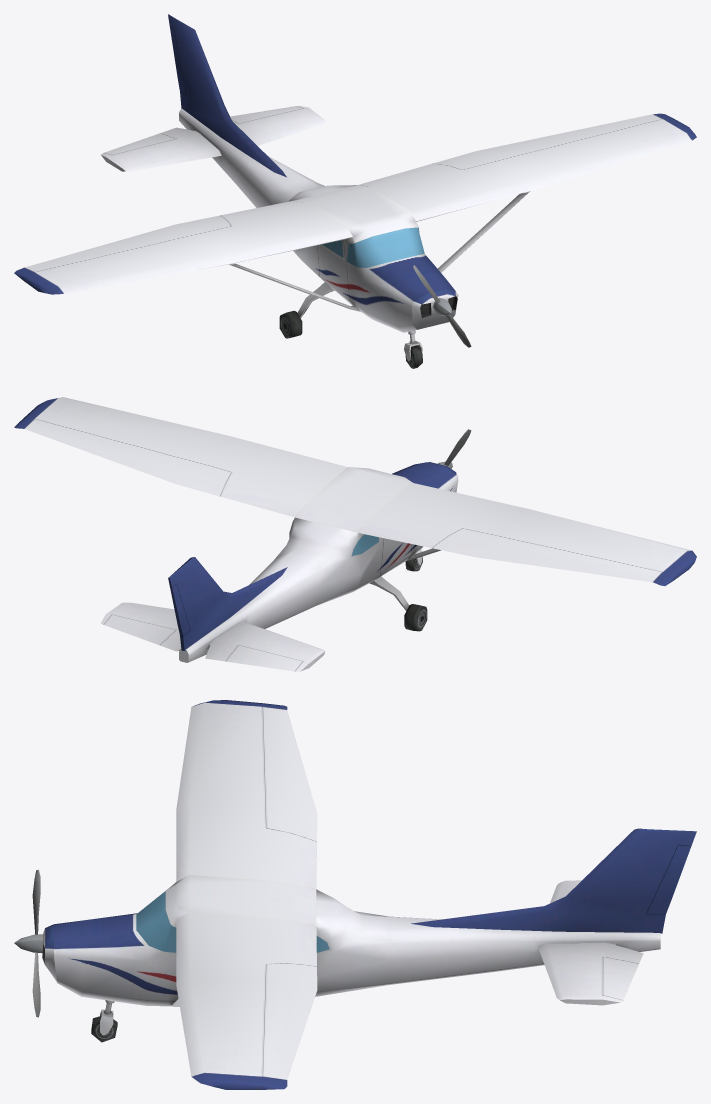
The model's file is planeModel.glb.
The picture shows the model from 3 angles, top to bottom: view 1: azimuth 30°, elevation 25°; view 2: azimuth 150°, elevation 25°; view 3: azimuth 270°, elevation 25°; orthographic projection. The views are drawn at different scales.
Parts seen in each view (by area): view 1: awionetka_airplane_0; view 2: awionetka_airplane_0; view 3: awionetka_airplane_0.
Boxes of the visible parts, x1,y1,x2,y2 form: awionetka_airplane_0: [14, 14, 696, 368]; awionetka_airplane_0: [14, 397, 696, 671]; awionetka_airplane_0: [14, 700, 696, 1089].
Size of the model in its own units: 130 by 33.58 by 97.94.
Materials: 1 (1 with a texture image).
